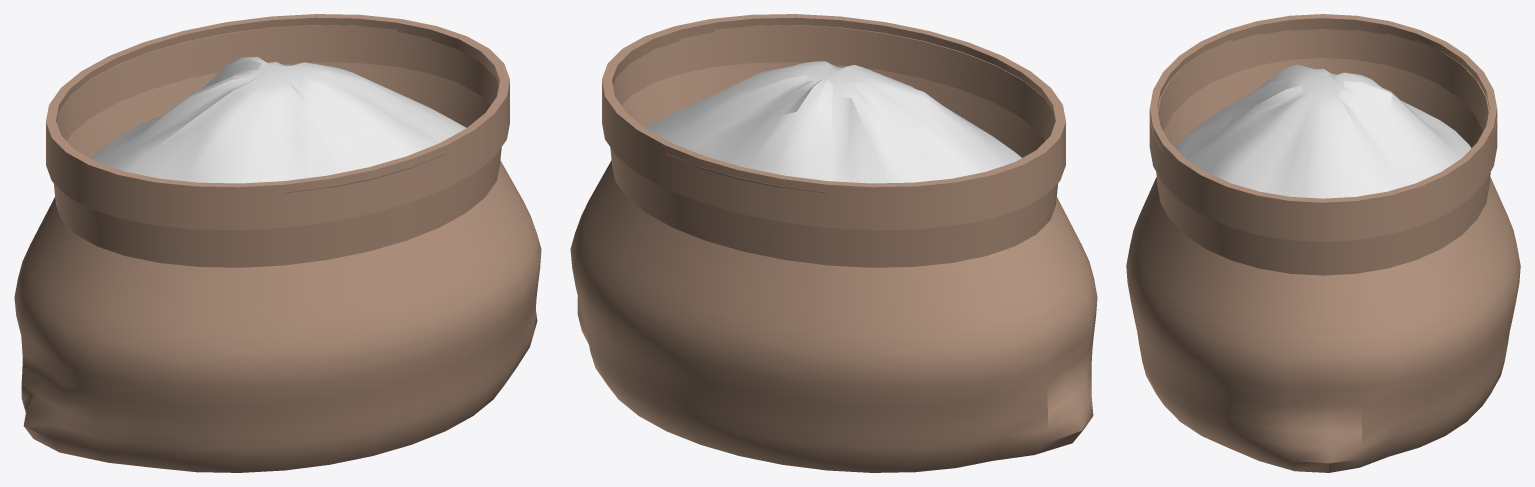
The model's file is Rice Bag.fbx.
3 renders of one model, left to right at view 1: azimuth 30°, elevation 25°; view 2: azimuth 150°, elevation 25°; view 3: azimuth 270°, elevation 25°, orthographic. The views are drawn at different scales.
Visible parts, largest first — view 1: Rice Bag; view 2: Rice Bag; view 3: Rice Bag.
Part boxes in pixels (<box>): Rice Bag: <box>14,14,541,472</box>; Rice Bag: <box>570,14,1097,472</box>; Rice Bag: <box>1126,14,1520,472</box>.
Bounding box in the file's own units: 47.88 × 29.54 × 35.68.
